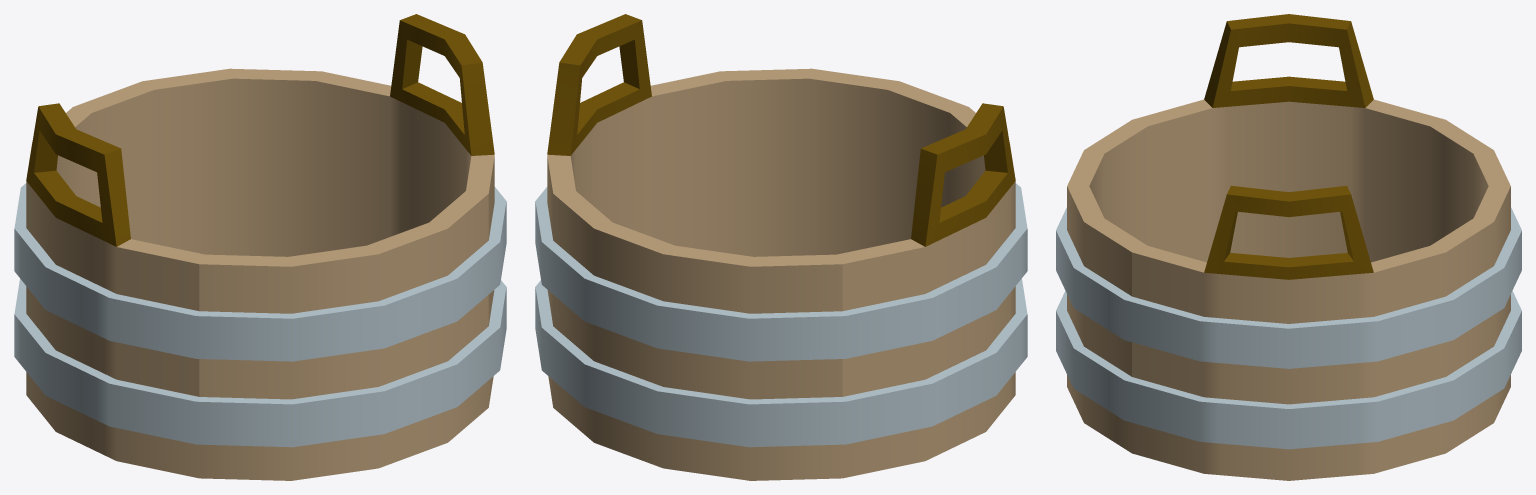
Rendered from Washbasin2.fbx.
The picture shows the model from 3 angles, left to right: view 1: azimuth 30°, elevation 25°; view 2: azimuth 150°, elevation 25°; view 3: azimuth 270°, elevation 25°; orthographic projection. The views are drawn at different scales.
Parts seen in each view (by area): view 1: Washbasin2; view 2: Washbasin2; view 3: Washbasin2.
Part boxes in pixels (x1,y1,x2,y2): Washbasin2: (14, 14, 506, 480); Washbasin2: (535, 14, 1027, 480); Washbasin2: (1056, 14, 1521, 480).
Bounding box in the file's own units: 21 × 13.89 × 21.
